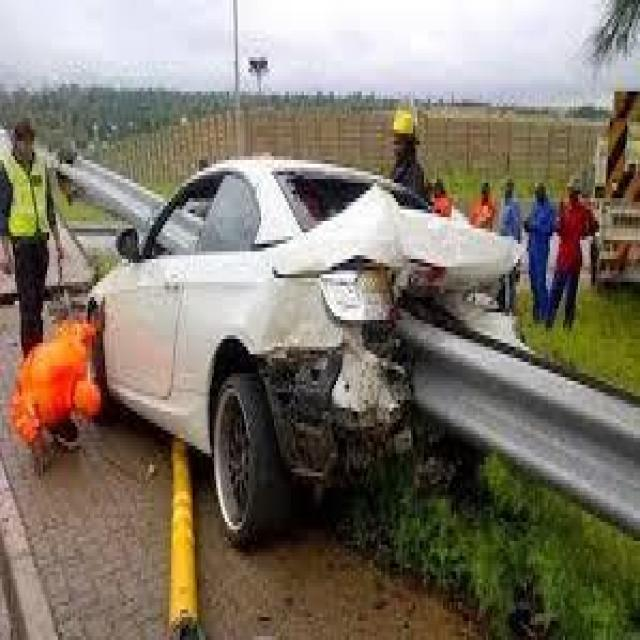accident: (79, 137, 520, 549)
